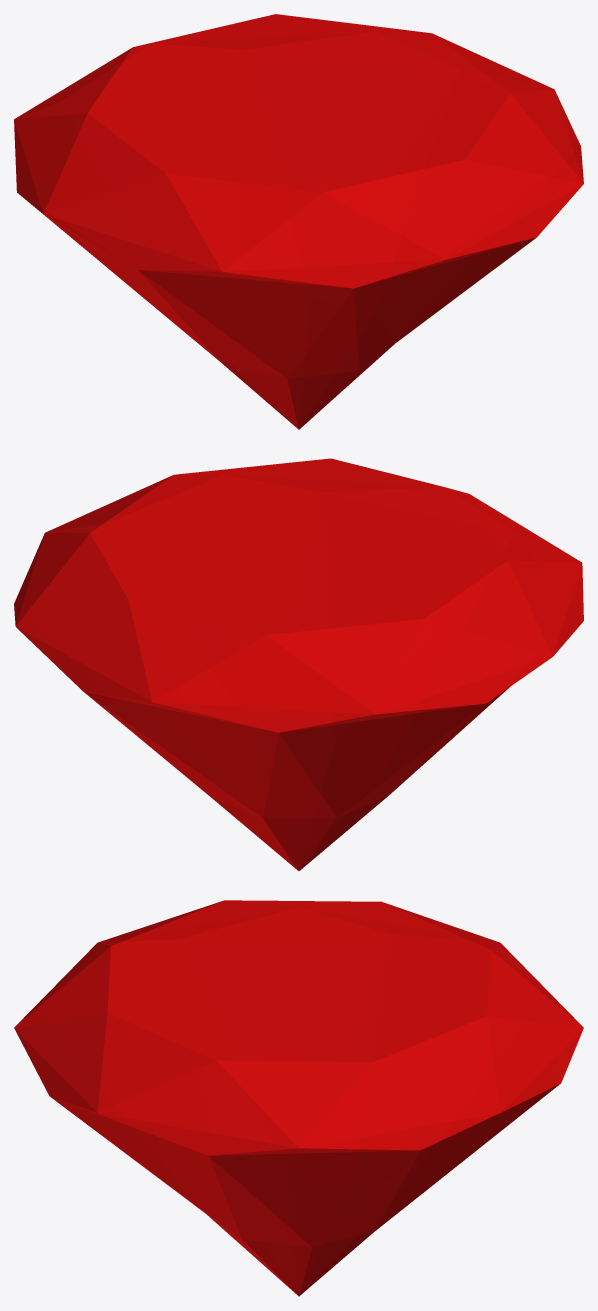
The model's file is ruby-transformed.glb.
3 views of the same model, one above another, from view 1: azimuth 30°, elevation 25°; view 2: azimuth 150°, elevation 25°; view 3: azimuth 270°, elevation 25° (orthographic). The views are drawn at different scales.
Visible parts, largest first — view 1: Cylinder; view 2: Cylinder; view 3: Cylinder.
Boxes of the visible parts, x1,y1,x2,y2 form: Cylinder: (14,14,583,429); Cylinder: (14,458,583,870); Cylinder: (14,900,583,1296).
Size of the model in its own units: 2 by 1.22 by 2.
